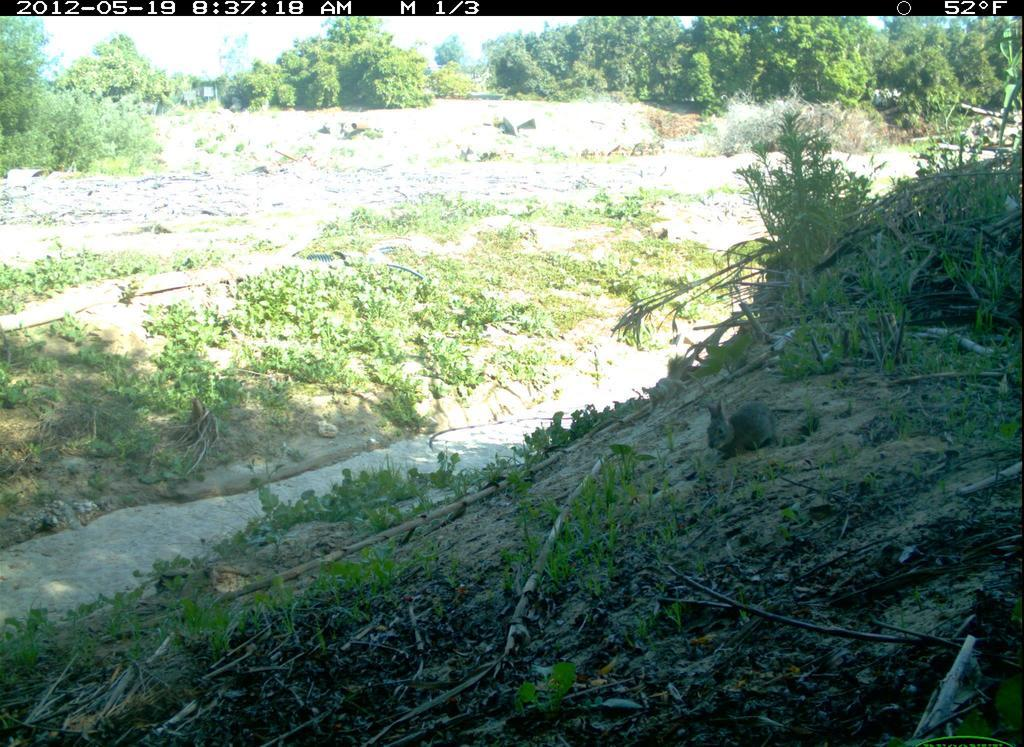rabbit: (703, 392, 784, 463)
